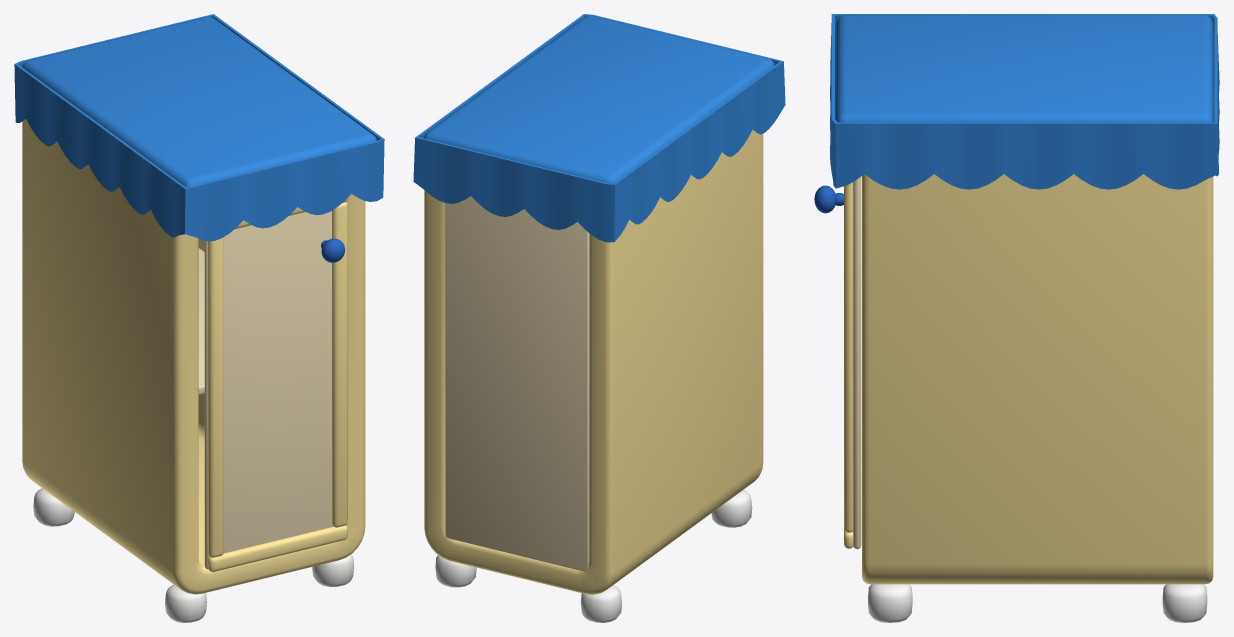
File: armario_cozinha_base_1porta_campestre_azul.glb
The picture shows the model from 3 angles, left to right: view 1: azimuth 30°, elevation 25°; view 2: azimuth 150°, elevation 25°; view 3: azimuth 270°, elevation 25°; orthographic projection. The views are drawn at different scales.
Visible parts, largest first — view 1: armario_cozinha_base_1porta_campestre_azul, porta_1; view 2: armario_cozinha_base_1porta_campestre_azul; view 3: armario_cozinha_base_1porta_campestre_azul, porta_1.
Boxes of the visible parts, x1,y1,x2,y2 form: armario_cozinha_base_1porta_campestre_azul: (14,14,384,622); porta_1: (204,198,347,571); armario_cozinha_base_1porta_campestre_azul: (413,14,785,622); armario_cozinha_base_1porta_campestre_azul: (830,14,1219,622); porta_1: (814,177,861,549).
Bounding box in the file's own units: 0.418 × 0.9 × 0.6436.
1 material, 1 textured.
